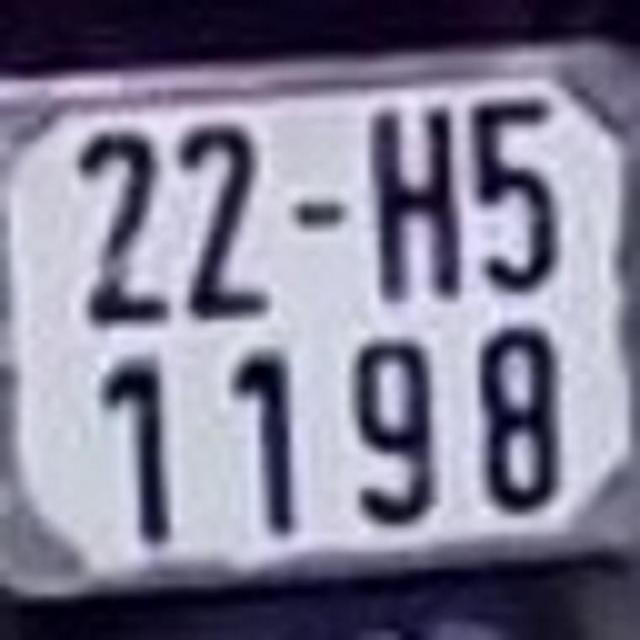1: (227, 339, 298, 536), (101, 350, 173, 544)
2: (73, 122, 171, 324), (180, 115, 270, 322)
5: (470, 96, 560, 292)
8: (479, 316, 558, 509)
9: (352, 332, 434, 522)
H: (364, 103, 466, 304)
